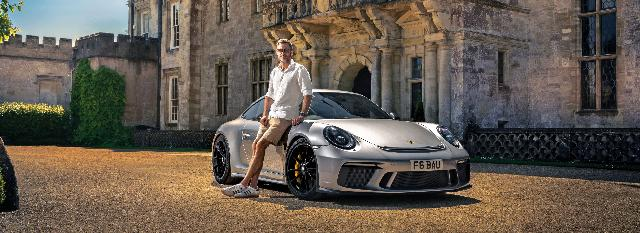porsche: (211, 89, 473, 199)
